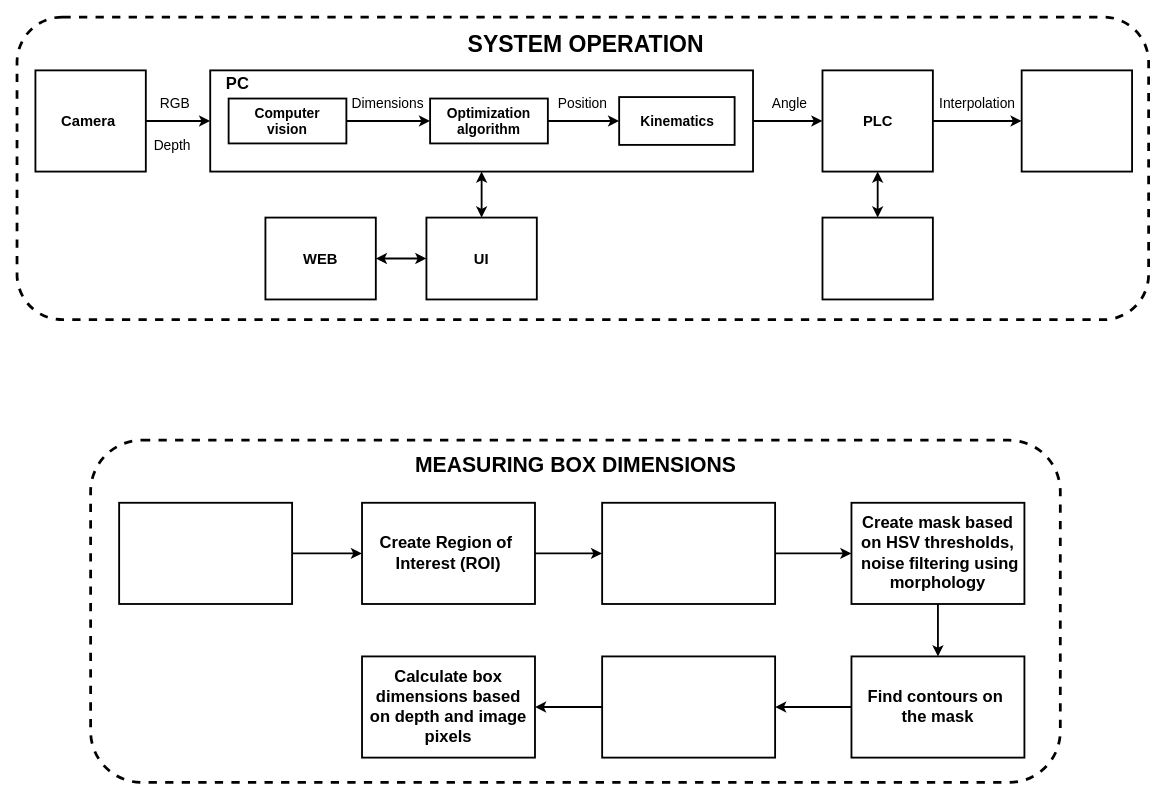
This 1166x799 diagram has some shape labels left out. The shapes that lost their labels are listed below. From the top down, each one's box as (x1, y1, x2, y2) in pixels, then its label:
(1020, 69, 1133, 172): Robot Delta
(821, 216, 933, 300): HMI
(118, 501, 293, 604): Capture image frame data
(601, 501, 776, 604): Convert color image to HSV
(601, 655, 776, 758): Identify the box and calculate the depth of the box center
